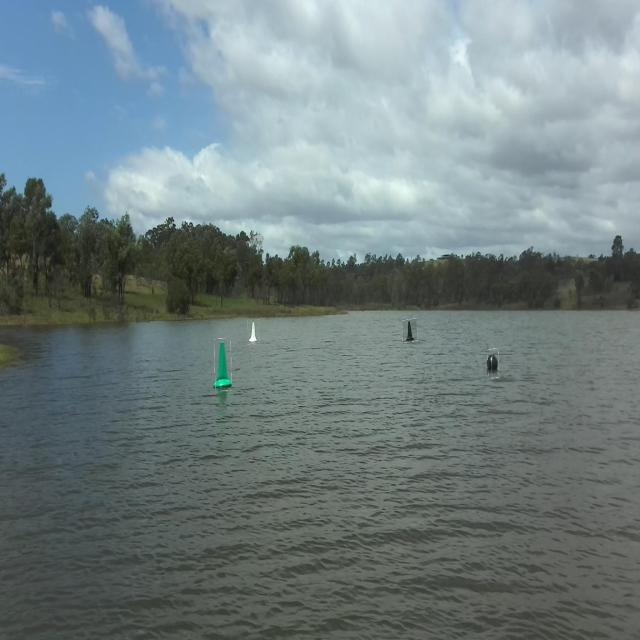Black_Buoy: (403, 319, 418, 342), (488, 348, 498, 378)
Green_Buoy: (214, 340, 233, 391)
White_Buoy: (248, 319, 261, 343)
